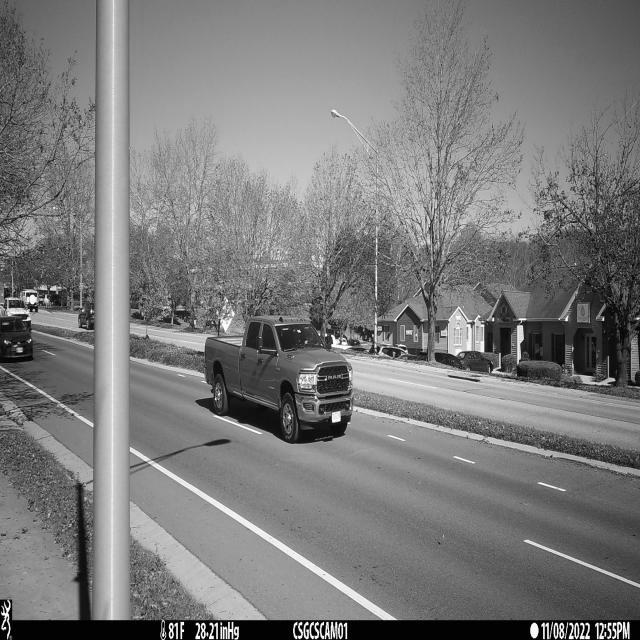Pickup: (205, 315, 353, 443)
